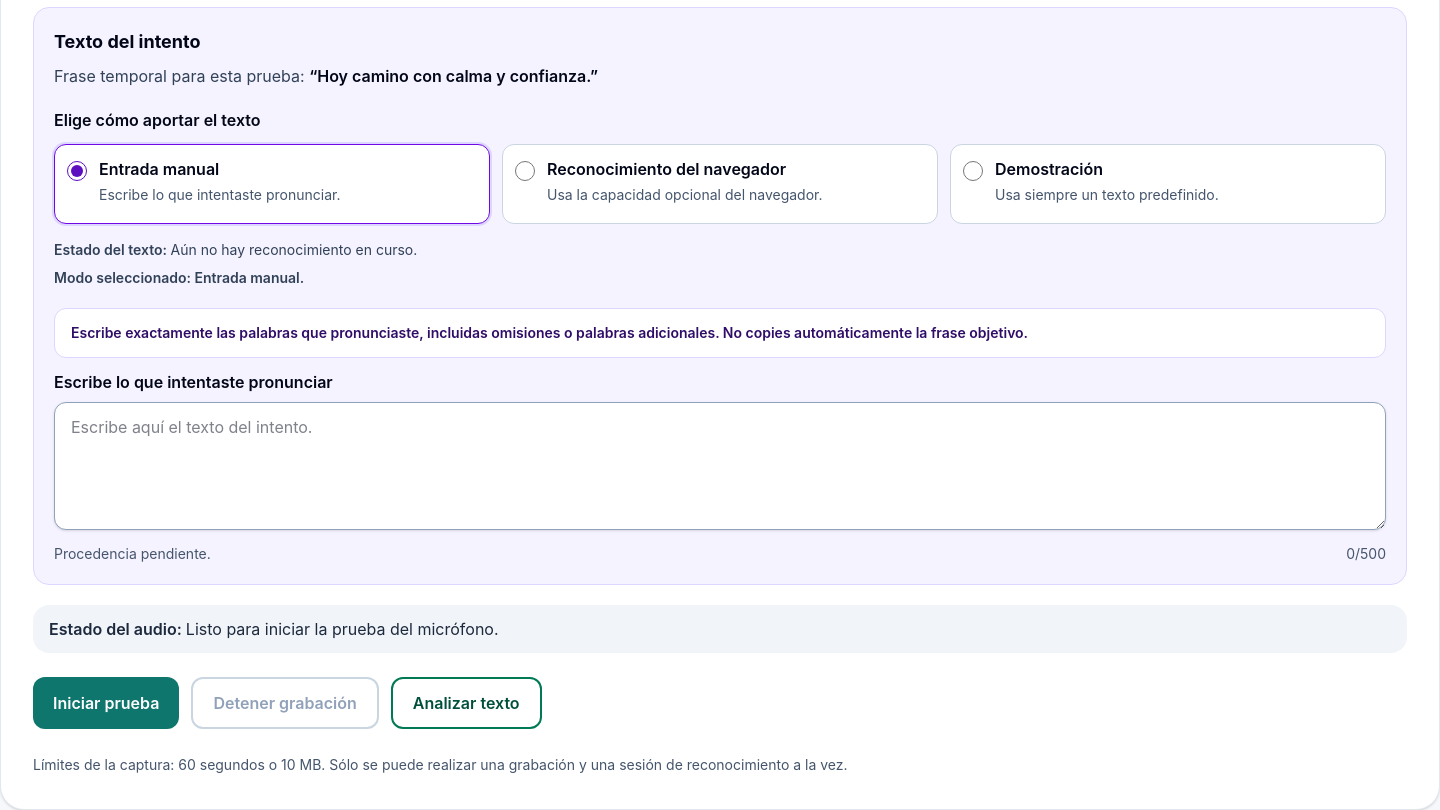
Scenario: AudioRecorderCard › inicia la grabación en StrictMode cuando el permiso ya estaba concedido
(page scrolled)
Click the button "Iniciar prueba": coordinates (106, 703) [33, 677, 179, 729]
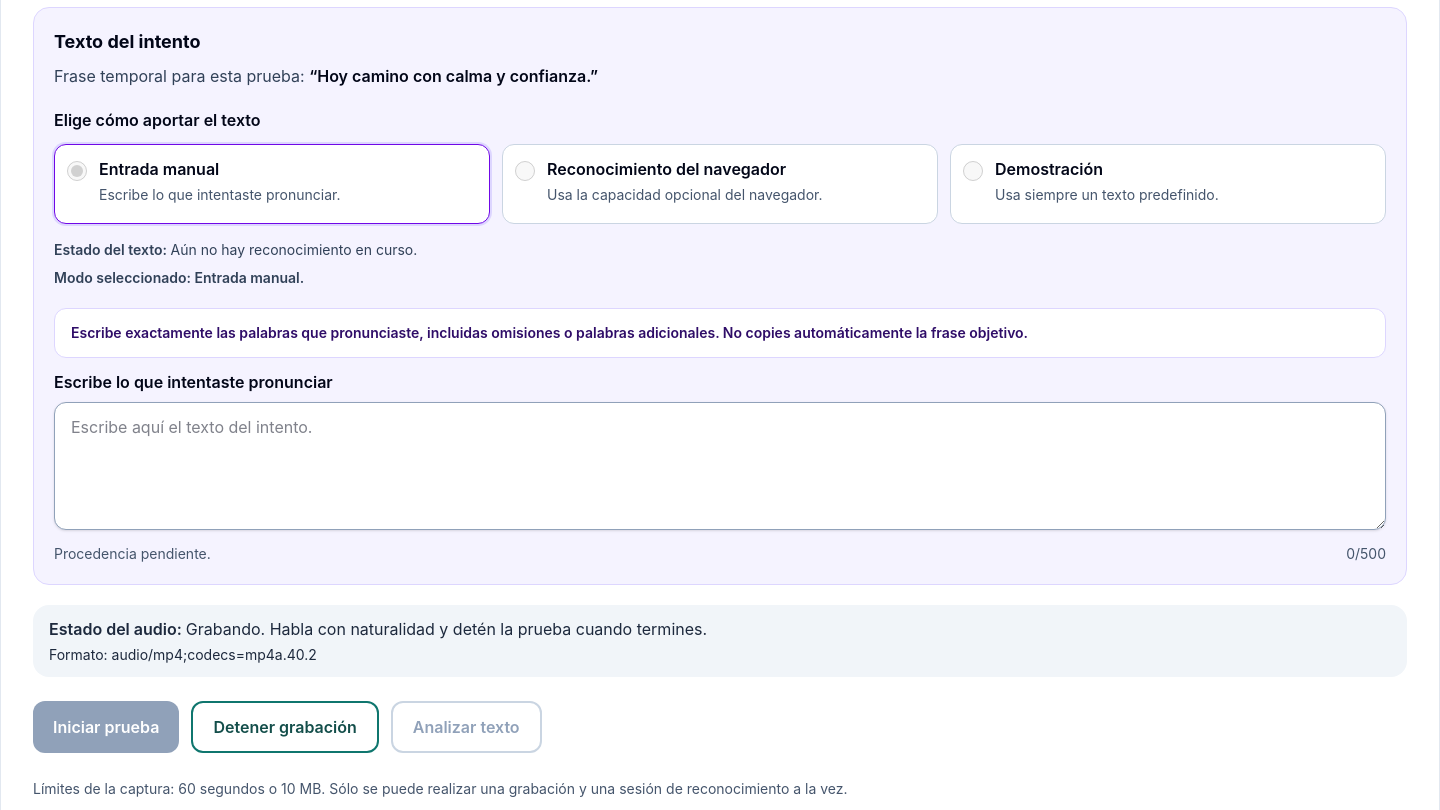
Result: the button "Detener grabación" is enabled at [191, 701, 379, 753]
Result: the message shows "Grabando" at [186, 619, 707, 639]
